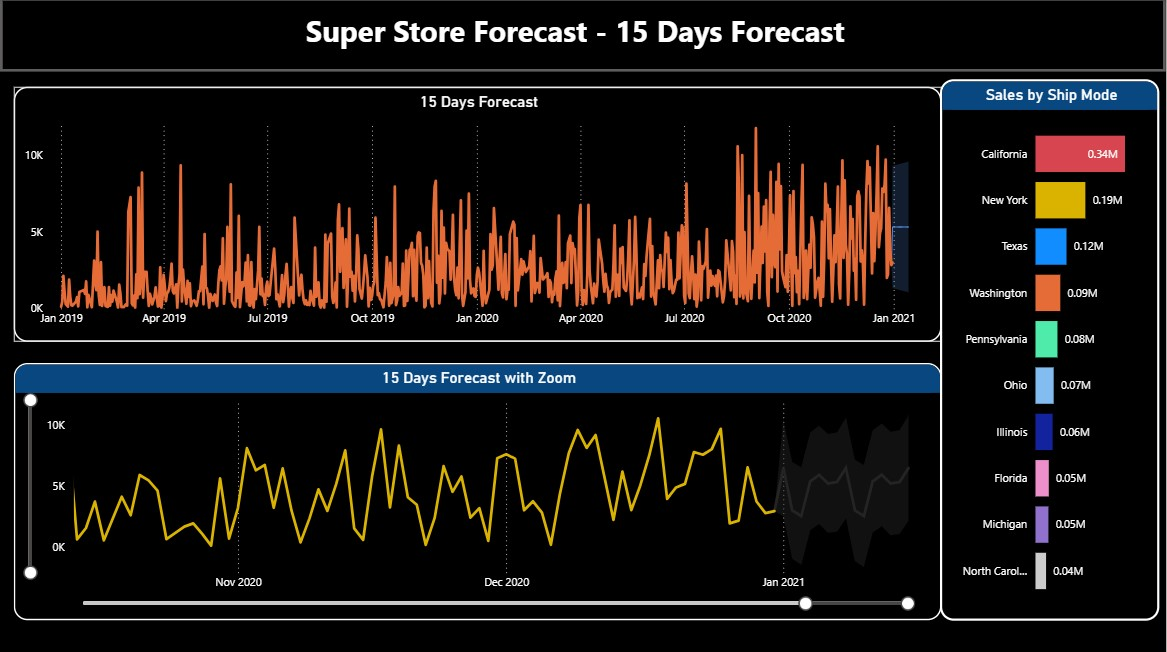

Layout of this report page (visuals, bound fields, positions):
{"tool":"powerbi","page":{"name":"Forecast","canvas":[1280,720],"ordinal":1},"visuals":[{"type":"lineChart","title":"15 Days Forecast","fields":{"Y":["Sum(SuperStore_Sales_Dataset.Sales)"],"Category":["SuperStore_Sales_Dataset.Order Date"]},"box":[14.4,97.3,1018.2,279.8],"z":0},{"type":"textbox","box":[331,9.5,619.1,61.9],"z":1000},{"type":"actionButton","box":[0,0,1279.8,81],"z":2000},{"type":"lineChart","title":"15 Days Forecast with Zoom","fields":{"Y":["Sum(SuperStore_Sales_Dataset.Sales)"],"Category":["SuperStore_Sales_Dataset.Order Date"]},"box":[14.4,401.1,1018.2,282.2],"z":3000},{"type":"clusteredBarChart","title":"Sales by Ship Mode","fields":{"Category":["SuperStore_Sales_Dataset.State"],"Y":["Sum(SuperStore_Sales_Dataset.Sales)"]},"box":[1032.1,89.3,240.5,594.1],"z":4000}]}

Visuals, with their boxes in screenshot pixels (x1, y1, x2, y2), scaled from the page's 1280x720 canvas onto the 1167x652 screenshot:
"15 Days Forecast" lineChart: BBox(13, 88, 941, 341)
textbox: BBox(302, 9, 866, 65)
actionButton: BBox(0, 0, 1166, 73)
"15 Days Forecast with Zoom" lineChart: BBox(13, 363, 941, 619)
"Sales by Ship Mode" clusteredBarChart: BBox(941, 81, 1160, 619)
